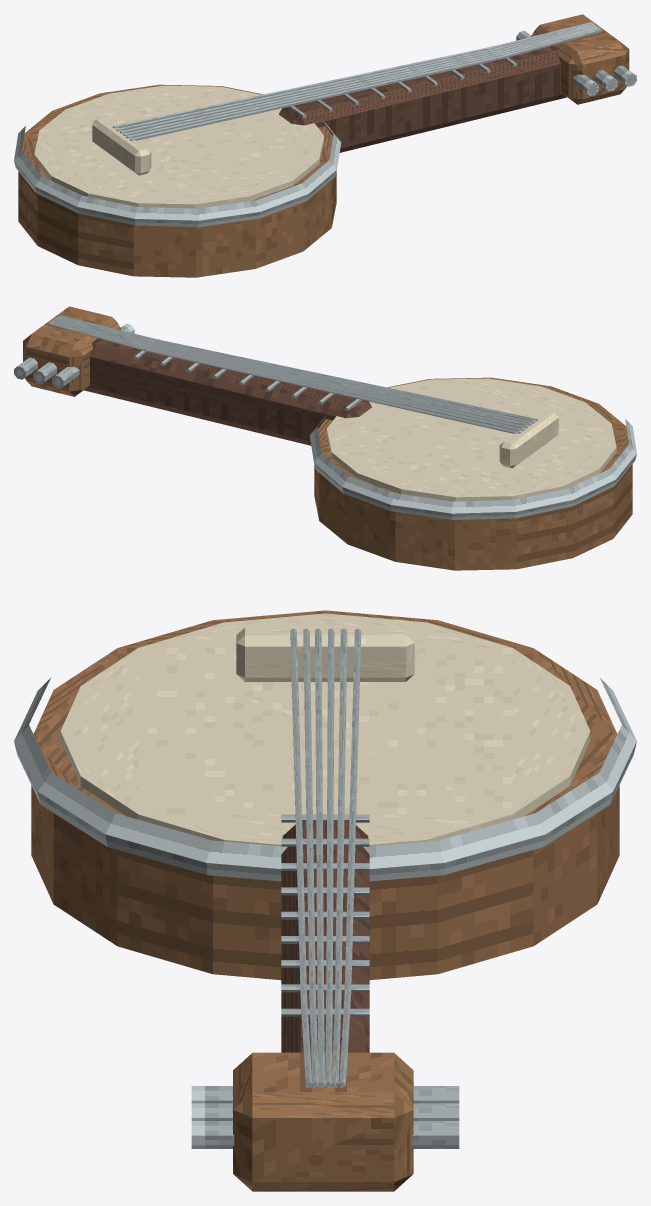
File: banjo.glb
3 renders of one model, top to bottom at view 1: azimuth 30°, elevation 25°; view 2: azimuth 150°, elevation 25°; view 3: azimuth 270°, elevation 25°, orthographic. The views are drawn at different scales.
Parts seen in each view (by area): view 1: block_stretched drum head, block_contoured instrument body, block_neck and headstock, block_instrument string 0 (×6), block_silver banjo rim, block_tuning head, block_string bridge, block_instrument string 1; view 2: block_stretched drum head, block_contoured instrument body, block_neck and headstock, block_instrument string 0 (×6), block_silver banjo rim, block_tuning head, block_string bridge, block_instrument string 1, block_tuning key; view 3: block_stretched drum head, block_contoured instrument body, block_tuning head, block_silver banjo rim, block_instrument string 0 (×6), block_neck and headstock, block_string bridge, block_tuning key (×4).
Boxes of the visible parts, x1=… form: block_stretched drum head: x1=34, y1=85, x2=324, y2=208; block_contoured instrument body: x1=18, y1=84, x2=336, y2=277; block_neck and headstock: x1=278, y1=45, x2=566, y2=152; block_instrument string 0 (×6): x1=112, y1=46, x2=504, y2=140; block_silver banjo rim: x1=14, y1=119, x2=341, y2=227; block_tuning head: x1=531, y1=14, x2=629, y2=104; block_string bridge: x1=92, y1=117, x2=151, y2=175; block_instrument string 1: x1=504, y1=28, x2=601, y2=58; block_stretched drum head: x1=326, y1=378, x2=616, y2=501; block_contoured instrument body: x1=314, y1=377, x2=632, y2=570; block_neck and headstock: x1=84, y1=338, x2=371, y2=445; block_instrument string 0 (×6): x1=145, y1=339, x2=538, y2=433; block_silver banjo rim: x1=309, y1=412, x2=636, y2=519; block_tuning head: x1=23, y1=306, x2=120, y2=396; block_string bridge: x1=499, y1=410, x2=558, y2=468; block_instrument string 1: x1=49, y1=321, x2=146, y2=351; block_tuning key: x1=52, y1=366, x2=79, y2=388; block_stretched drum head: x1=60, y1=613, x2=590, y2=846; block_contoured instrument body: x1=31, y1=610, x2=619, y2=980; block_tuning head: x1=233, y1=1052, x2=413, y2=1191; block_silver banjo rim: x1=14, y1=678, x2=636, y2=881; block_instrument string 0 (×6): x1=290, y1=628, x2=361, y2=997; block_neck and headstock: x1=281, y1=820, x2=369, y2=1052; block_string bridge: x1=236, y1=627, x2=414, y2=681; block_tuning key (×4): x1=191, y1=1086, x2=459, y2=1148.
Size of the model in its own units: 0.72 by 0.1112 by 0.3578.
Materials: 1 (1 with a texture image).
